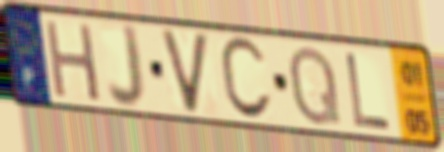C: (217, 34, 275, 124)
H: (42, 17, 104, 105)
J: (105, 21, 148, 112)
L: (342, 50, 394, 133)
Q: (286, 42, 344, 129)
V: (157, 26, 212, 118)
